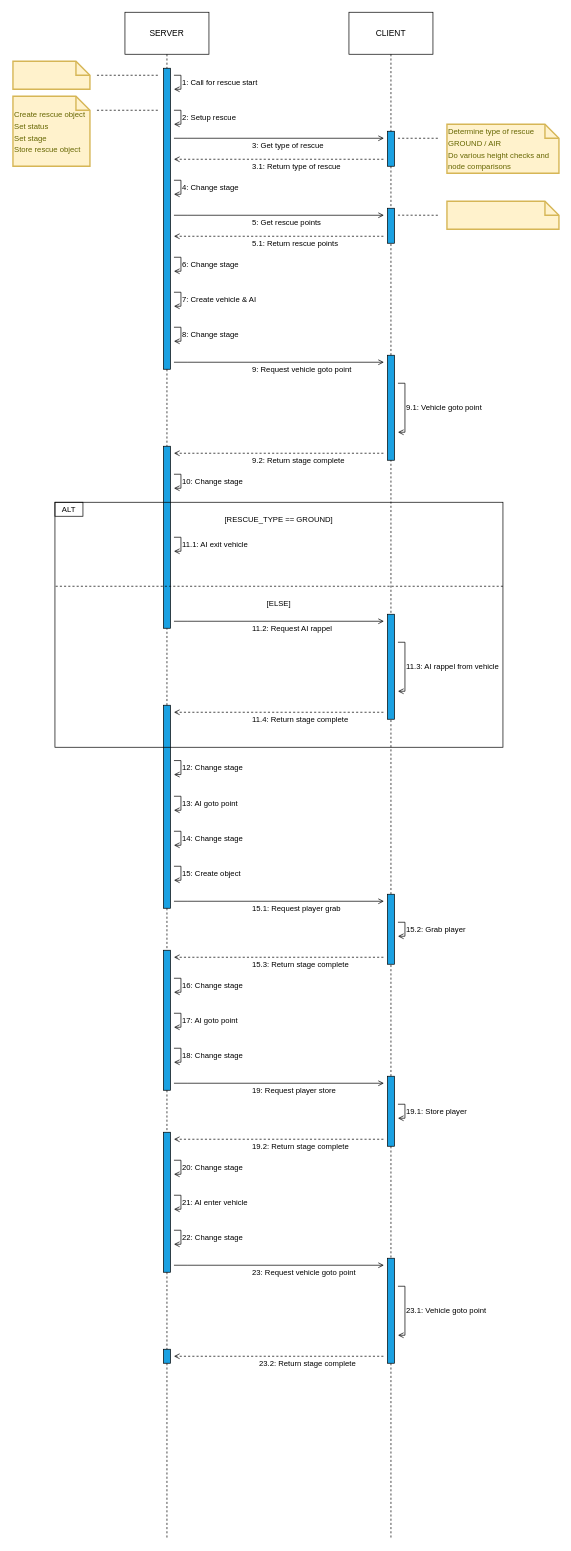
The diagram is 571 pixels wide and 1551 high, and some of its shapes have lost their labels. The centre of each missing label's shape, as x and y in pixels:
Called externally: pixel 51 75
Get start, end & delivery points for rescue: pixel 502 215
